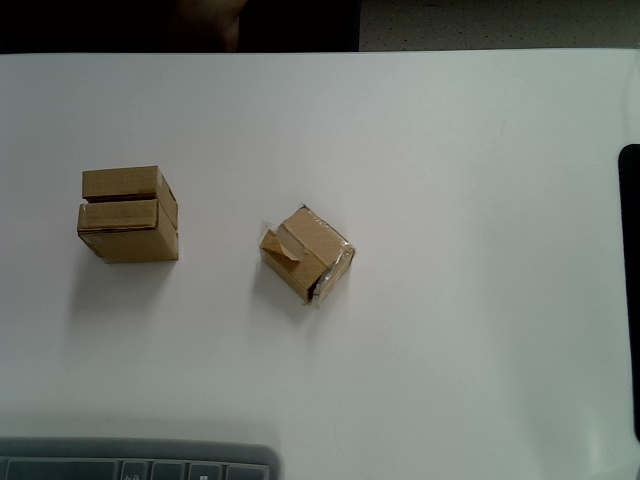defect: (259, 204, 357, 309)
normal: (76, 200, 180, 265), (81, 166, 178, 227)
